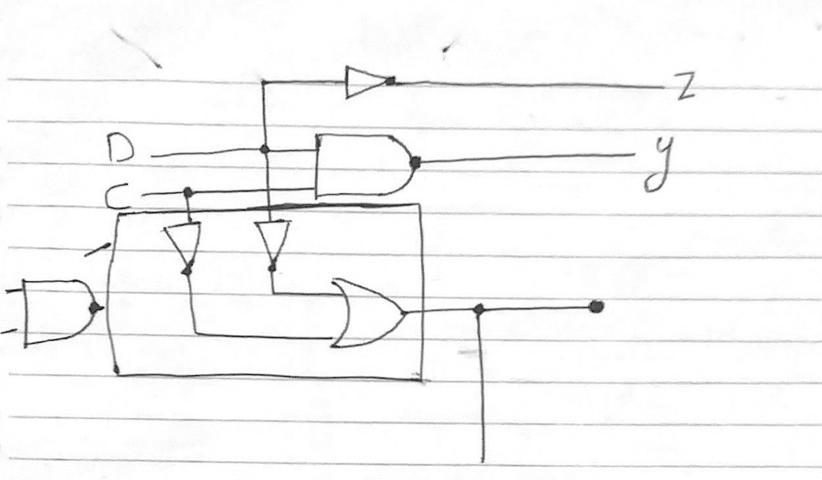NAND: (305, 126, 433, 203), (12, 269, 106, 352)
NOT: (156, 221, 215, 277), (337, 58, 406, 104), (253, 216, 305, 277)
OR: (321, 268, 412, 355)
